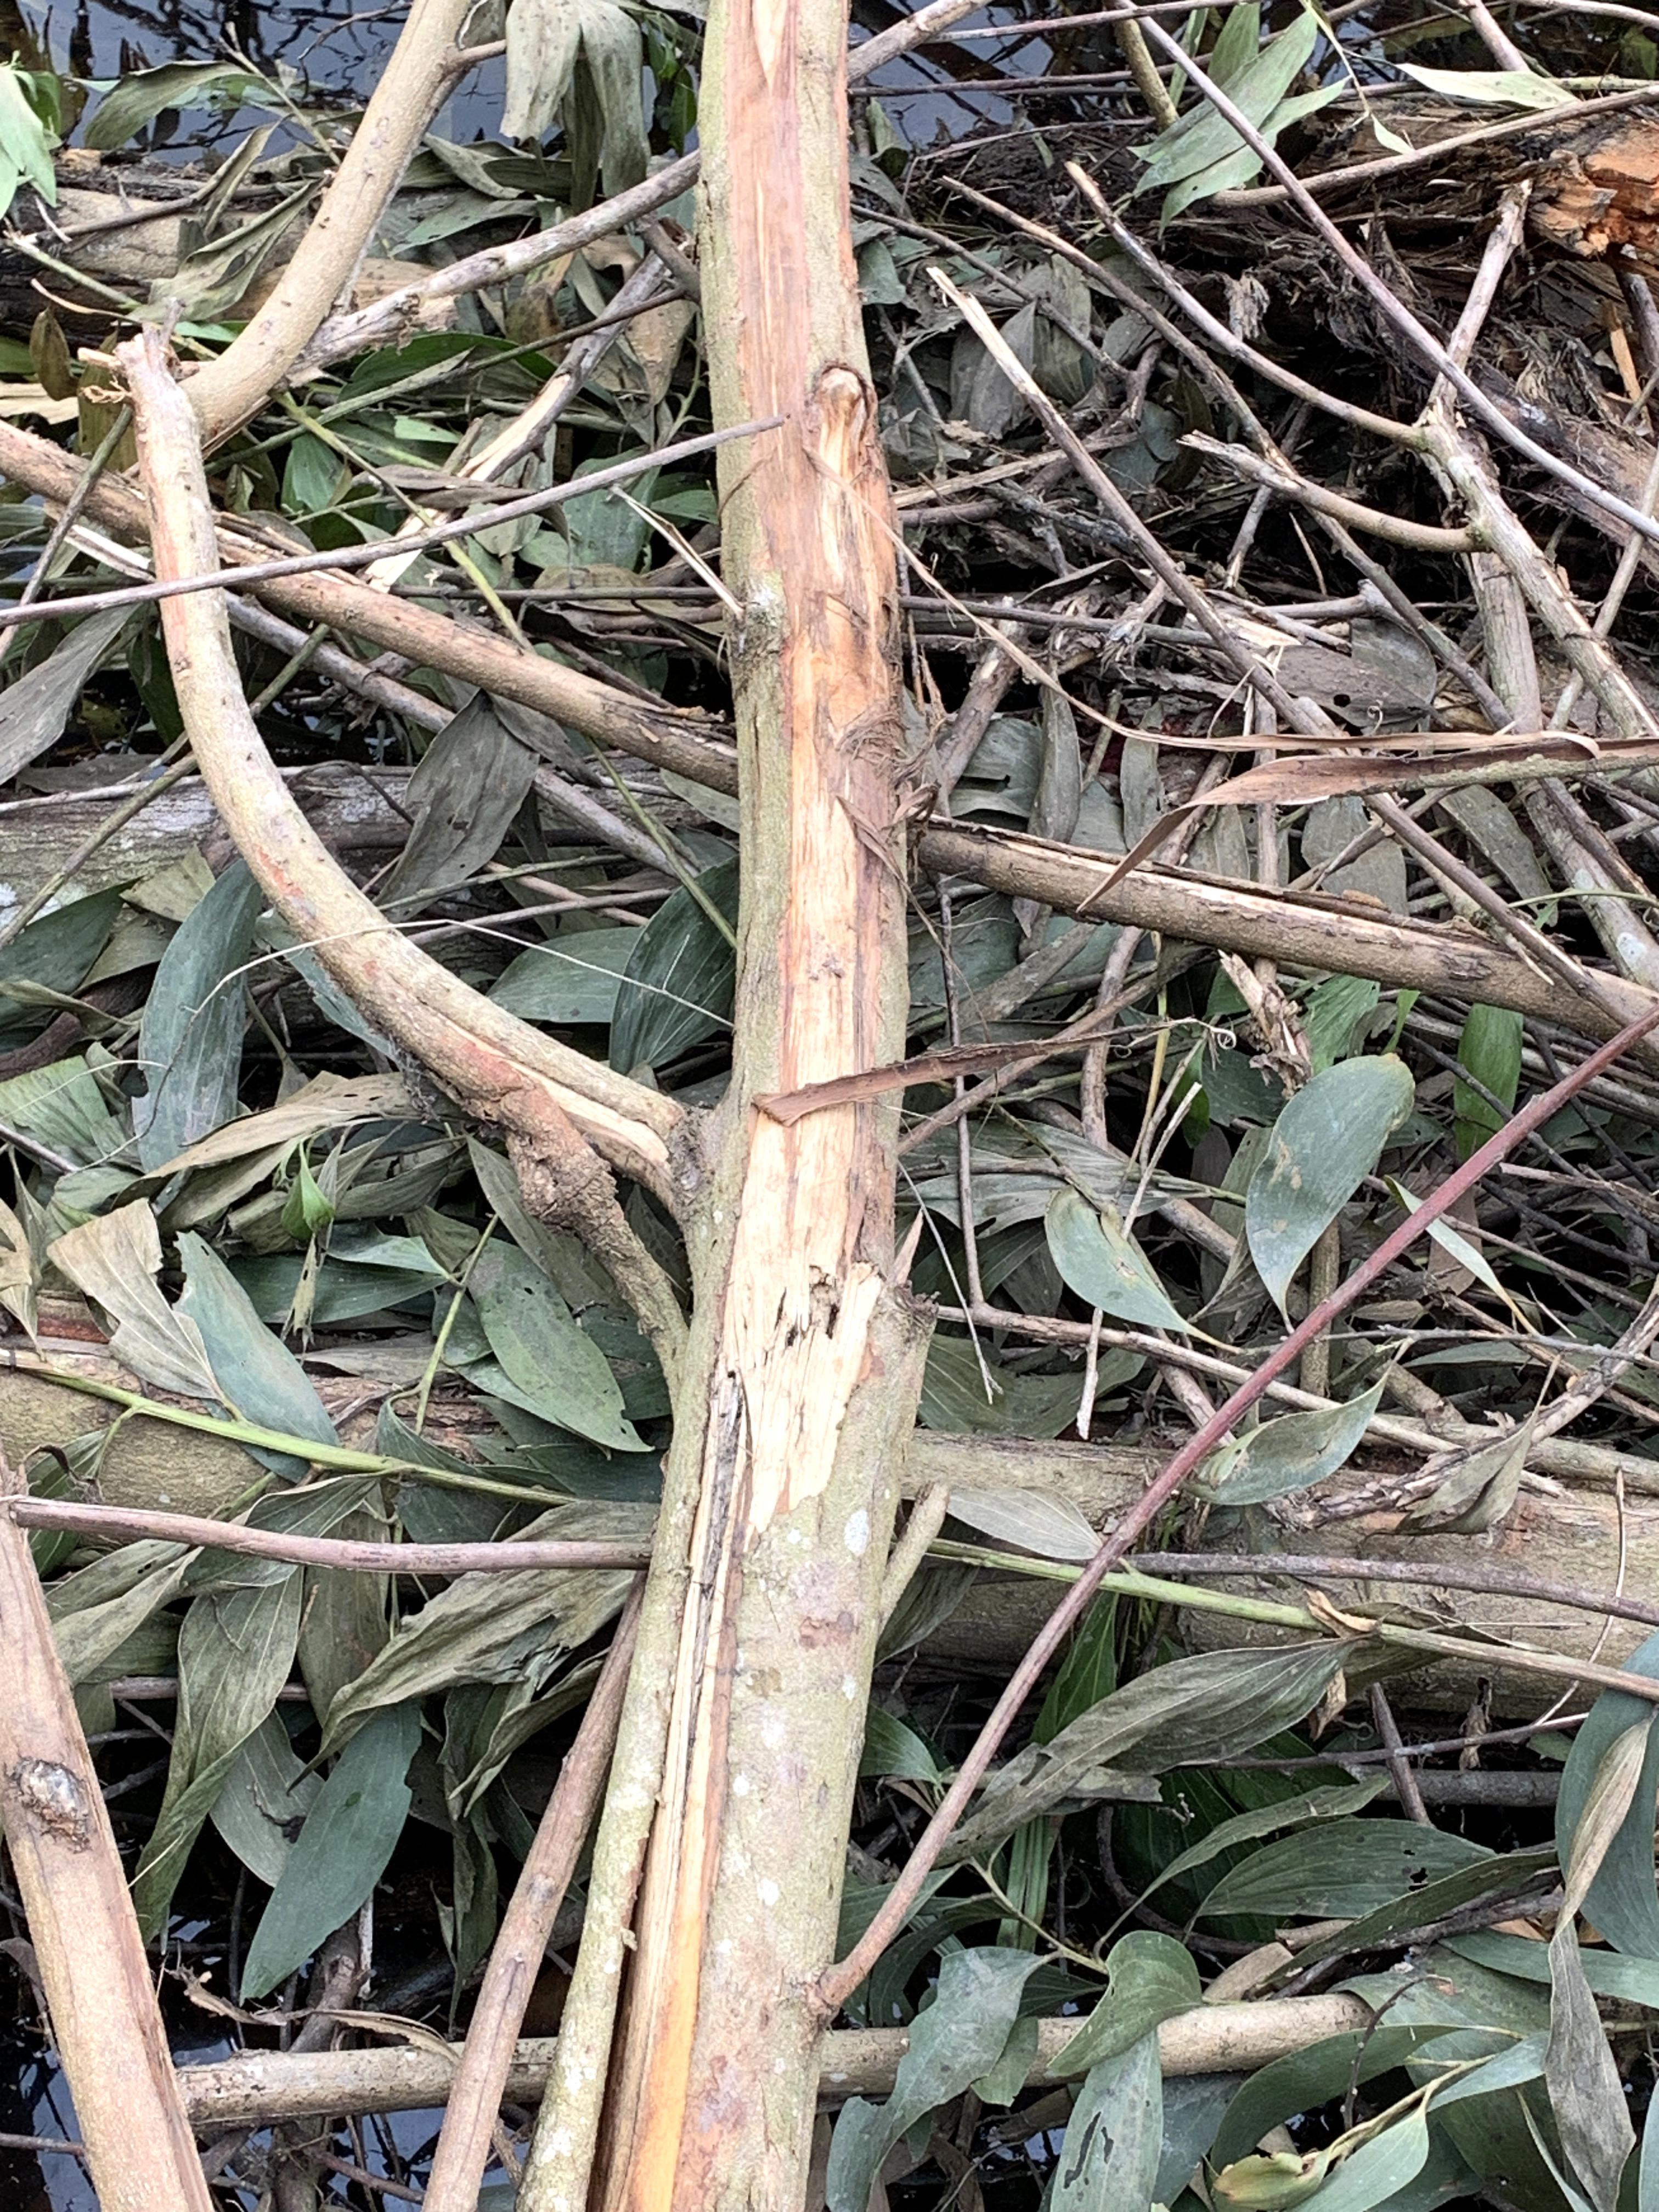Mammals Attack: (659, 23, 880, 2212)
